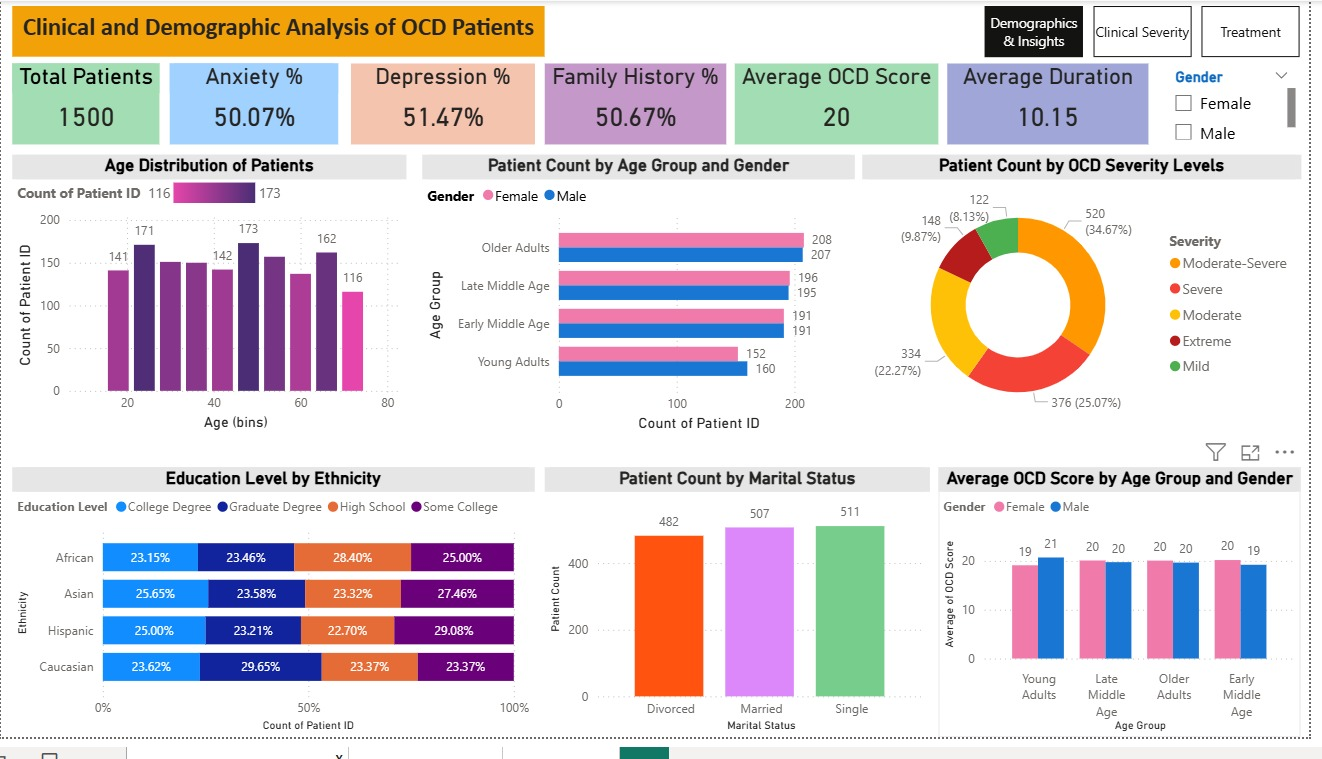

What the dashboard file says about the page in this screenshot:
{"tool":"powerbi","page":{"name":"Demographics & Insights","canvas":[1280,720],"ordinal":0},"visuals":[{"type":"textbox","box":[11.2,5,520.8,49.7],"z":0},{"type":"card","title":"Total Patients","fields":{"Values":["OCD Patient Dataset.Patient Count"]},"box":[11,61.1,144.3,79.5],"z":1000},{"type":"card","title":"Anxiety %","fields":{"Values":["OCD Patient Dataset.Percent Anxiety Diagnosis"]},"box":[165.1,61.1,165.1,79.5],"z":2000},{"type":"card","title":"Depression %","fields":{"Values":["OCD Patient Dataset.Percent Depression Diagnosis"]},"box":[342.4,61.1,179.8,79.5],"z":3000},{"type":"card","title":"Family History %","fields":{"Values":["OCD Patient Dataset.Percent Family History"]},"box":[531.9,61.1,177.3,79.5],"z":4000},{"type":"card","title":"Average OCD  Score","fields":{"Values":["Avg(OCD Patient Dataset.OCD Score)"]},"box":[717.8,61.1,199.3,79.5],"z":5000},{"type":"card","title":"Average Duration","fields":{"Values":["Avg(OCD Patient Dataset.Duration of Symptoms (Years))"]},"box":[925.7,61.1,196.9,79.5],"z":6000},{"type":"columnChart","title":"Age Distribution of Patients","fields":{"Y":["CountNonNull(OCD Patient Dataset.Patient ID)"],"Category":["OCD Patient Dataset.Age (bins)"]},"box":[11.2,150.4,385.3,274.7],"z":7000},{"type":"clusteredBarChart","title":"Patient Count by Age Group and Gender","fields":{"Category":["OCD Patient Dataset.Age Group"],"Y":["CountNonNull(OCD Patient Dataset.Patient ID)"],"Series":["OCD Patient Dataset.Gender"]},"box":[412.1,150.4,423.1,275.1],"z":8000},{"type":"hundredPercentStackedBarChart","title":"Education Level by Ethnicity","fields":{"Category":["OCD Patient Dataset.Ethnicity"],"Series":["OCD Patient Dataset.Education Level"],"Y":["CountNonNull(OCD Patient Dataset.Patient ID)"]},"box":[11.2,456.2,510.9,263.5],"z":9000},{"type":"clusteredColumnChart","title":"Patient Count by Marital Status","fields":{"Category":["OCD Patient Dataset.Marital Status"],"Y":["OCD Patient Dataset.Patient Count"]},"box":[531.9,456.1,376.6,264.1],"z":10000},{"type":"donutChart","title":"Patient Count by OCD Severity Levels","fields":{"Category":["OCD Patient Dataset.Severity"],"Y":["OCD Patient Dataset.Patient Count"]},"box":[842.5,150.4,429.2,275.1],"z":11000},{"type":"clusteredColumnChart","title":"Average OCD Score by Age Group and Gender","fields":{"Y":["Avg(OCD Patient Dataset.OCD Score)"],"Category":["OCD Patient Dataset.Age Group"],"Series":["OCD Patient Dataset.Gender"]},"box":[917.1,456.1,354.6,264.1],"z":12000},{"type":"pageNavigator","box":[962.4,4.9,309.4,50.1],"z":13000},{"type":"slicer","fields":{"Values":["OCD Patient Dataset.Gender"]},"box":[1136,61.1,135.7,79.5],"z":14000}]}

Visuals, with their boxes in screenshot pixels (x1, y1, x2, y2), scaled from the page's 1280x720 canvas onto the 1322x759 screenshot:
textbox: [12,5,549,58]
"Total Patients" card: [11,64,160,148]
"Anxiety %" card: [171,64,341,148]
"Depression %" card: [354,64,539,148]
"Family History %" card: [549,64,732,148]
"Average OCD  Score" card: [741,64,947,148]
"Average Duration" card: [956,64,1159,148]
"Age Distribution of Patients" columnChart: [12,159,410,448]
"Patient Count by Age Group and Gender" clusteredBarChart: [426,159,863,449]
"Education Level by Ethnicity" hundredPercentStackedBarChart: [12,481,539,758]
"Patient Count by Marital Status" clusteredColumnChart: [549,481,938,758]
"Patient Count by OCD Severity Levels" donutChart: [870,159,1313,449]
"Average OCD Score by Age Group and Gender" clusteredColumnChart: [947,481,1313,758]
pageNavigator: [994,5,1314,58]
slicer - OCD Patient Dataset.Gender: [1173,64,1313,148]
